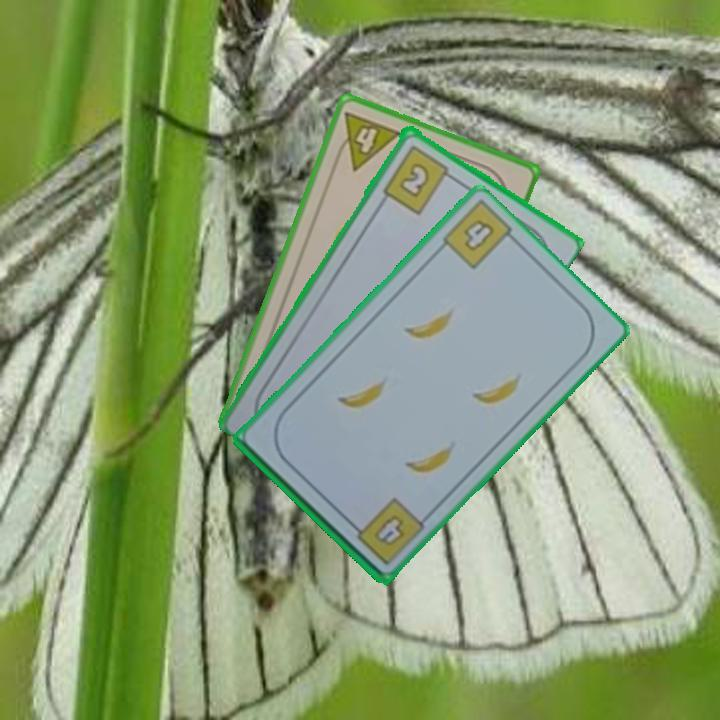2b: (379, 141, 458, 217)
4b: (345, 494, 424, 568), (459, 215, 498, 254)
4p: (329, 107, 404, 174)
